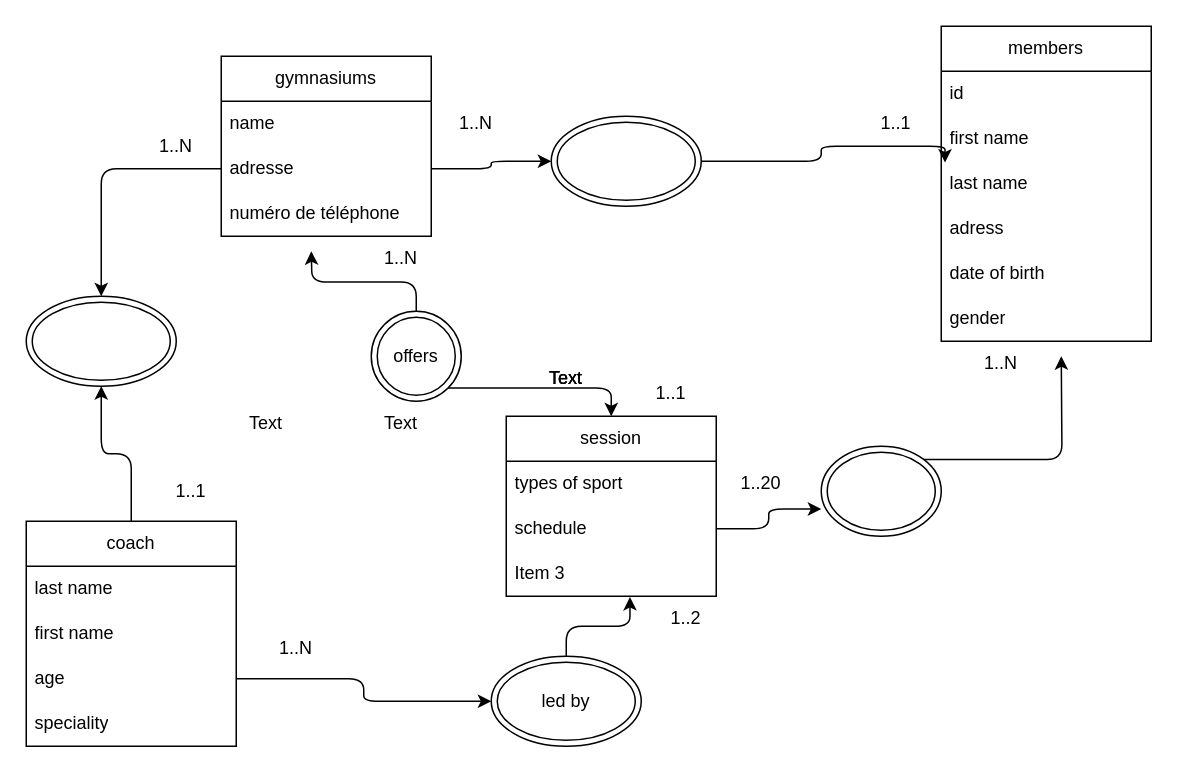
The diagram is 1178 pixels wide and 773 high, and some of its shapes have lost their labels. The shapes that lost their labels are listed below. From the top down, each one's centre as x and y in pixels, then its label:
At [625,160]: "register at".
At [100,340]: "employs".
At [880,490]: "participate in".
